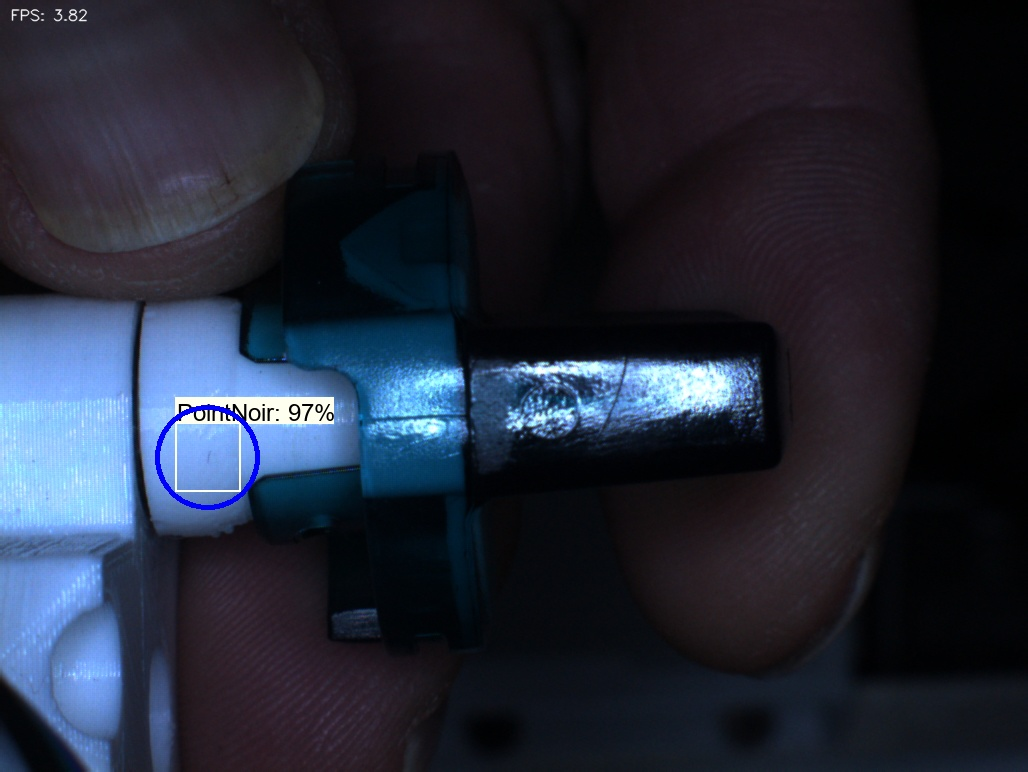DentOk: (318, 212, 397, 301)
